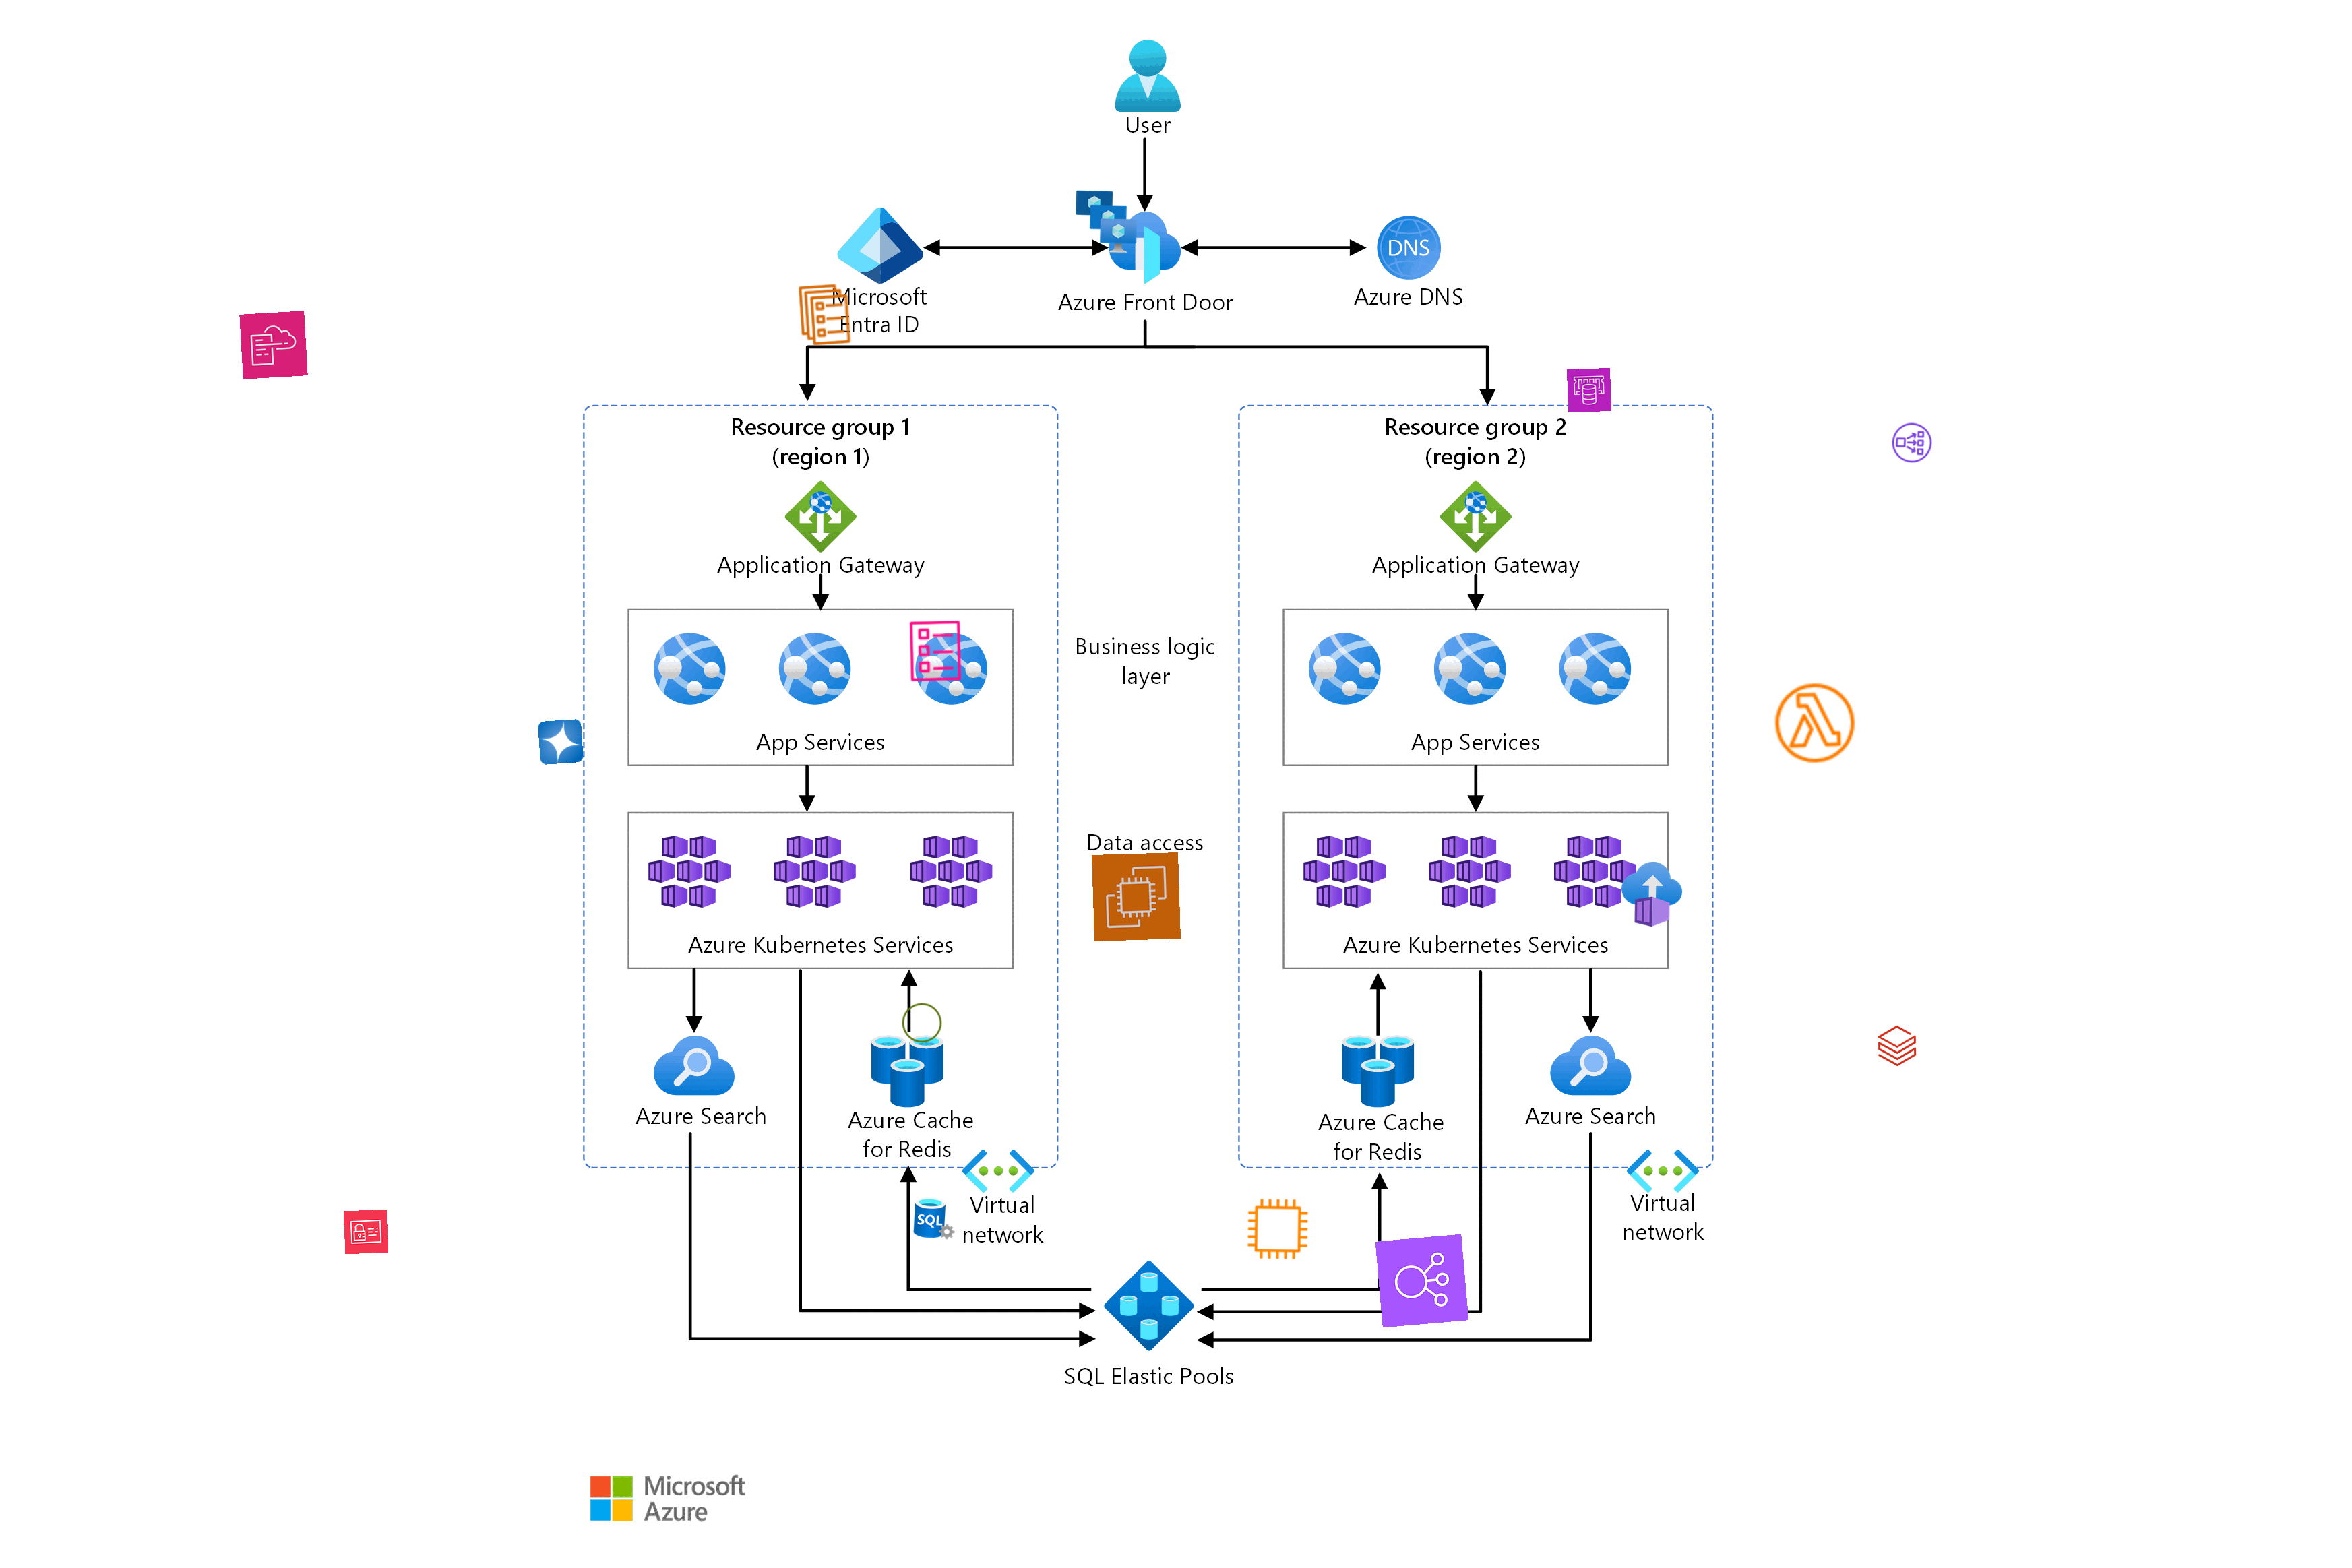aws_amazon_ec2: (1092, 852, 1181, 942)
aws_amazon_elasticache: (1566, 367, 1612, 413)
aws_cloudformation: (240, 311, 308, 380)
aws_cloudformation_template: (901, 618, 968, 684)
aws_ec2_instance: (1244, 1195, 1311, 1262)
aws_elastic_container_service_service: (789, 280, 859, 350)
aws_elastic_load_balancing: (1375, 1234, 1470, 1328)
aws_elastic_load_balancing_network_load_balancer: (1888, 420, 1935, 465)
aws_identity_and_access_management: (343, 1209, 388, 1255)
aws_lambda_lambda_function: (1769, 677, 1860, 768)
aws_simple_storage_service_object: (899, 1001, 945, 1045)
azure_container_instances: (1619, 861, 1685, 928)
azure_databricks: (1874, 1024, 1920, 1067)
azure_openai: (537, 717, 584, 765)
azure_sql_server: (912, 1195, 957, 1241)
azure_vm_scale_sets: (1071, 187, 1139, 254)
